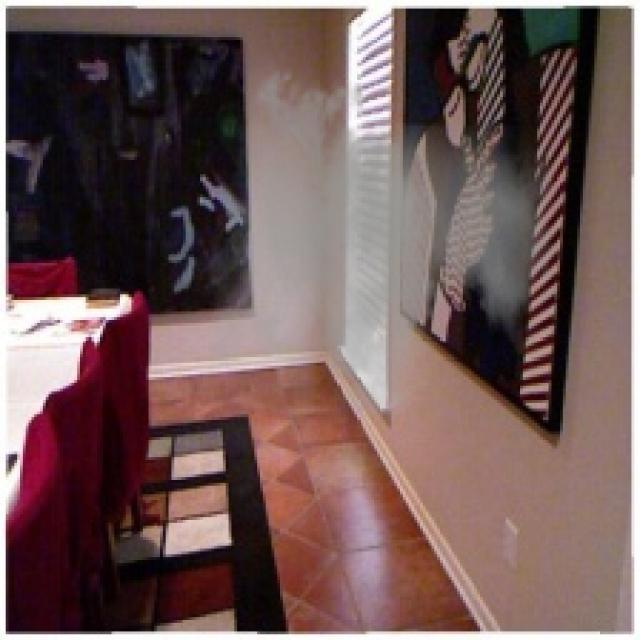Smoke: (208, 57, 554, 434)
